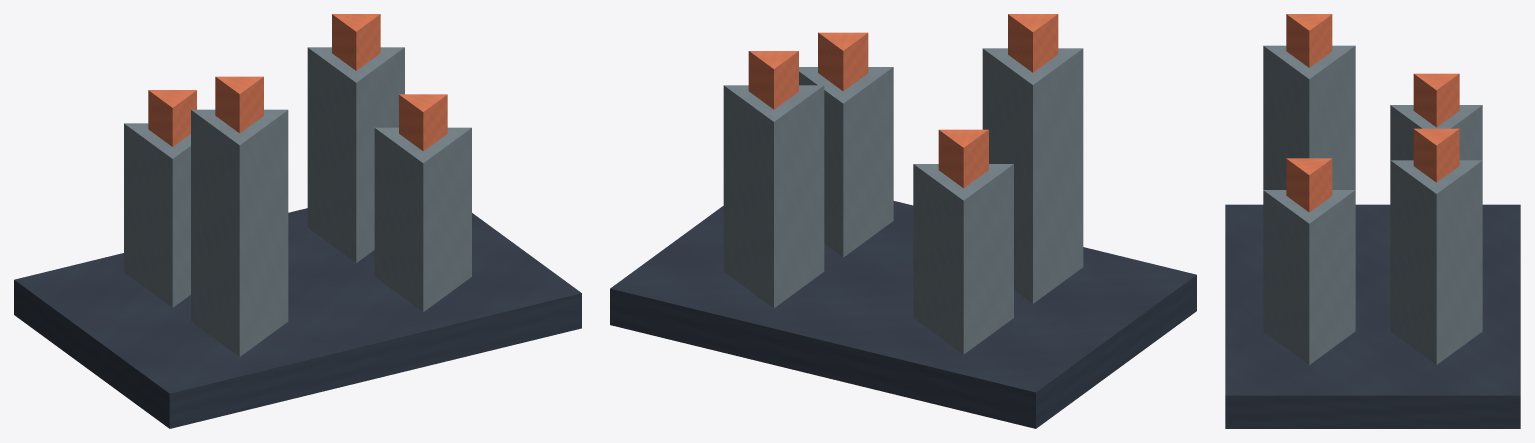
File: atlas100-s023-a04.lod2.glb
The picture shows the model from 3 angles, left to right: view 1: azimuth 30°, elevation 25°; view 2: azimuth 150°, elevation 25°; view 3: azimuth 270°, elevation 25°; orthographic projection. The views are drawn at different scales.
Visible parts, largest first — view 1: atlas100-s023-a04:part-000, atlas100-s023-a04:part-007, atlas100-s023-a04:part-010, atlas100-s023-a04:part-004, atlas100-s023-a04:part-001, atlas100-s023-a04:part-008, atlas100-s023-a04:part-011, atlas100-s023-a04:part-005, atlas100-s023-a04:part-002; view 2: atlas100-s023-a04:part-000, atlas100-s023-a04:part-004, atlas100-s023-a04:part-007, atlas100-s023-a04:part-001, atlas100-s023-a04:part-010, atlas100-s023-a04:part-002, atlas100-s023-a04:part-011, atlas100-s023-a04:part-008, atlas100-s023-a04:part-005; view 3: atlas100-s023-a04:part-000, atlas100-s023-a04:part-004, atlas100-s023-a04:part-010, atlas100-s023-a04:part-007, atlas100-s023-a04:part-001, atlas100-s023-a04:part-005, atlas100-s023-a04:part-011, atlas100-s023-a04:part-002, atlas100-s023-a04:part-008.
Part boxes in pixels (left/top/right/bottom): atlas100-s023-a04:part-000: left=14, top=208, right=581, bottom=428; atlas100-s023-a04:part-007: left=191, top=109, right=288, bottom=356; atlas100-s023-a04:part-010: left=374, top=127, right=471, bottom=312; atlas100-s023-a04:part-004: left=307, top=47, right=404, bottom=262; atlas100-s023-a04:part-001: left=124, top=123, right=190, bottom=307; atlas100-s023-a04:part-008: left=215, top=76, right=263, bottom=133; atlas100-s023-a04:part-011: left=399, top=94, right=447, bottom=151; atlas100-s023-a04:part-005: left=332, top=14, right=380, bottom=70; atlas100-s023-a04:part-002: left=148, top=90, right=196, bottom=146; atlas100-s023-a04:part-000: left=610, top=201, right=1196, bottom=428; atlas100-s023-a04:part-004: left=723, top=85, right=824, bottom=307; atlas100-s023-a04:part-007: left=982, top=48, right=1083, bottom=303; atlas100-s023-a04:part-001: left=913, top=164, right=1013, bottom=354; atlas100-s023-a04:part-010: left=799, top=67, right=893, bottom=257; atlas100-s023-a04:part-002: left=938, top=129, right=988, bottom=188; atlas100-s023-a04:part-011: left=818, top=32, right=868, bottom=91; atlas100-s023-a04:part-008: left=1008, top=14, right=1058, bottom=72; atlas100-s023-a04:part-005: left=748, top=51, right=798, bottom=109; atlas100-s023-a04:part-000: left=1225, top=204, right=1520, bottom=428; atlas100-s023-a04:part-004: left=1390, top=160, right=1482, bottom=364; atlas100-s023-a04:part-010: left=1263, top=190, right=1355, bottom=364; atlas100-s023-a04:part-007: left=1263, top=45, right=1355, bottom=189; atlas100-s023-a04:part-001: left=1390, top=105, right=1482, bottom=160; atlas100-s023-a04:part-005: left=1413, top=128, right=1459, bottom=182; atlas100-s023-a04:part-011: left=1286, top=158, right=1332, bottom=212; atlas100-s023-a04:part-002: left=1413, top=73, right=1459, bottom=127; atlas100-s023-a04:part-008: left=1286, top=14, right=1332, bottom=67.
Bounding box in the file's own units: 1.18 × 0.7804 × 0.7697.
Materials: 3 (3 with a texture image).
